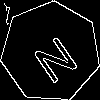N: (26, 27, 81, 85)
